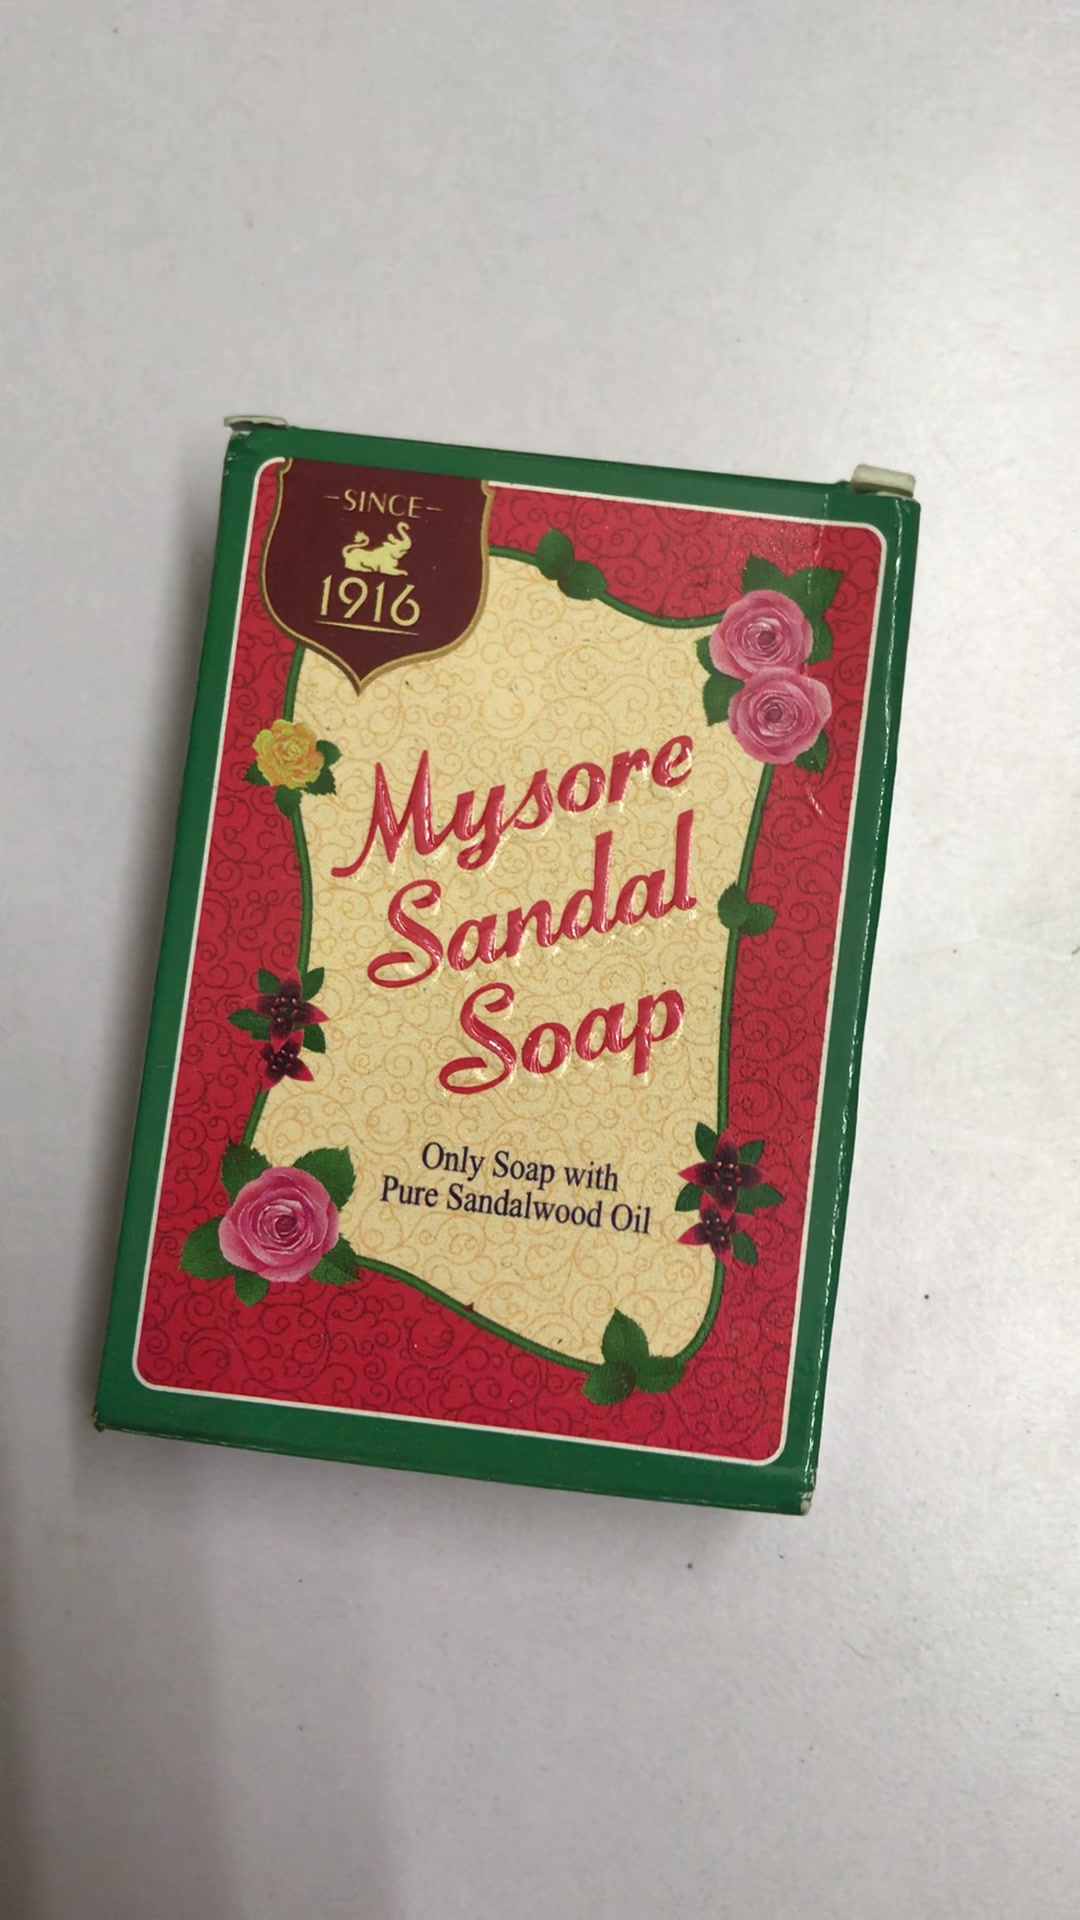mysore sandal soap: (90, 421, 922, 1519)
